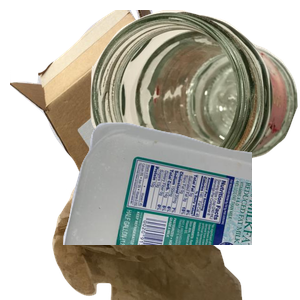cardboard: (10, 10, 227, 190)
glass: (90, 10, 300, 184)
plastic: (60, 120, 300, 300)
trash: (50, 120, 285, 300)
